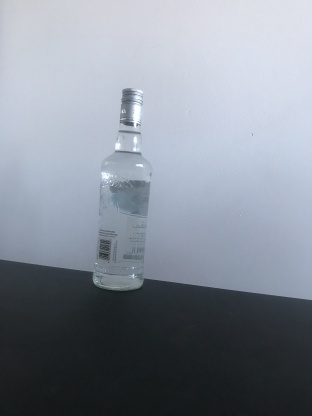nakretka: (118, 85, 144, 126)
